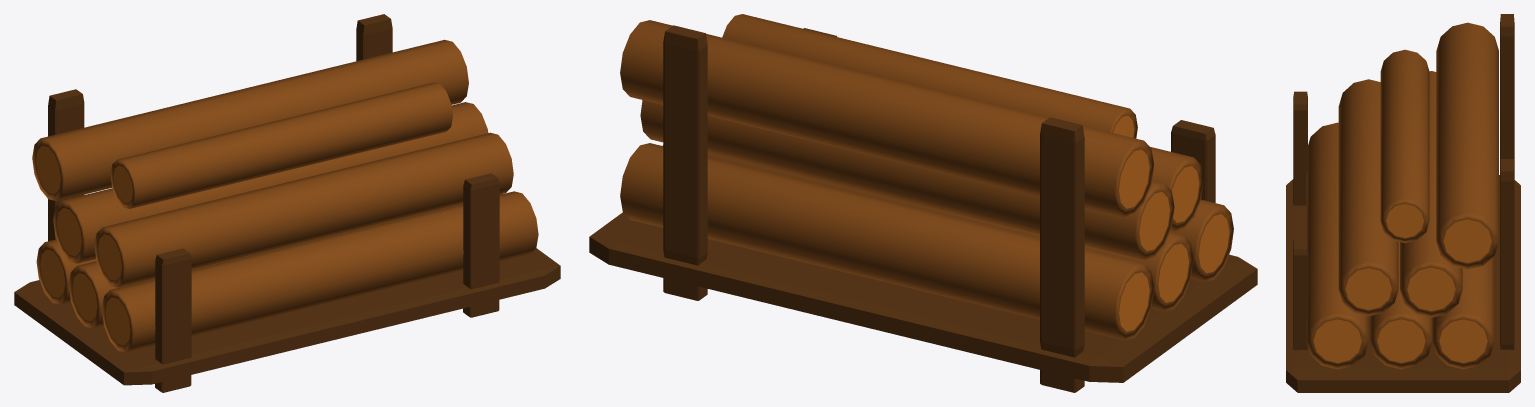
Rendered from WoodPile_1.fbx.
3 views of the same model, side by side, from view 1: azimuth 30°, elevation 25°; view 2: azimuth 150°, elevation 25°; view 3: azimuth 270°, elevation 25° (orthographic). The views are drawn at different scales.
Visible parts, largest first — view 1: Cylinder.020; view 2: Cylinder.020; view 3: Cylinder.020.
Part boxes in pixels (x1=…): Cylinder.020: x1=14, y1=14, x2=560, y2=392; Cylinder.020: x1=589, y1=14, x2=1257, y2=392; Cylinder.020: x1=1286, y1=14, x2=1520, y2=392.
Size of the model in its own units: 334 by 157 by 162.
